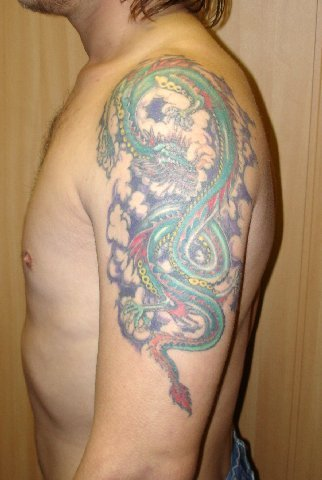tatu6_drakon: (84, 42, 264, 431)
